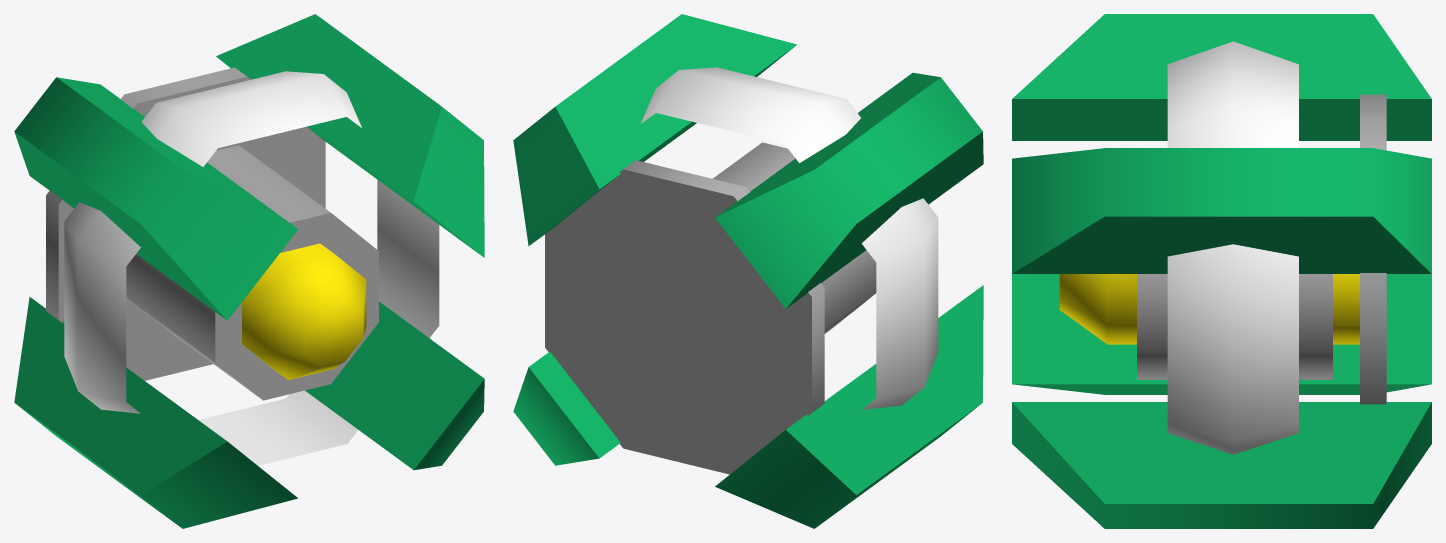
The model's file is teki_01.fbx.
3 renders of one model, left to right at view 1: azimuth 30°, elevation 25°; view 2: azimuth 150°, elevation 25°; view 3: azimuth 270°, elevation 25°, orthographic. The views are drawn at different scales.
Visible parts, largest first — view 1: teki; view 2: teki; view 3: teki.
Part boxes in pixels (bbox=[...]): teki: bbox=[14, 14, 484, 528]; teki: bbox=[513, 14, 983, 528]; teki: bbox=[1012, 14, 1431, 528].
Bounding box in the file's own units: 200 × 200 × 197.
